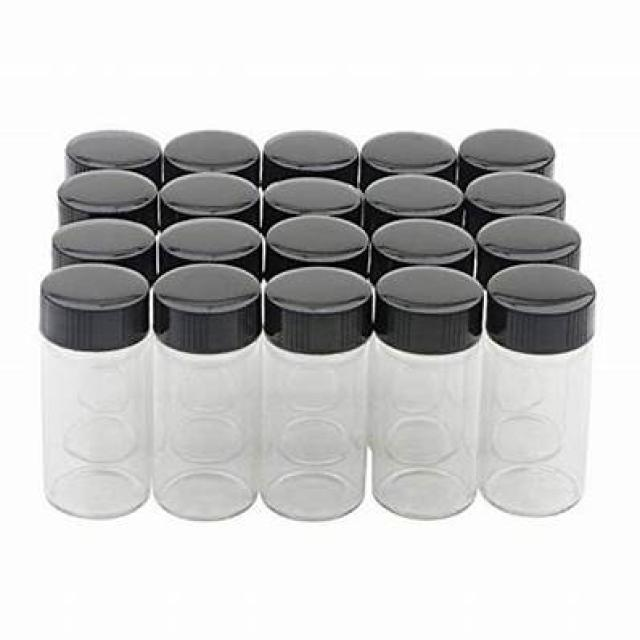vial: (482, 262, 596, 320), (372, 258, 486, 316), (473, 213, 585, 266), (260, 170, 368, 222), (161, 216, 266, 268), (469, 170, 571, 220), (370, 218, 480, 264), (265, 217, 380, 261), (161, 170, 266, 218), (52, 220, 164, 262), (462, 129, 556, 178), (156, 270, 264, 310), (41, 269, 149, 309), (364, 131, 454, 178), (62, 172, 160, 215), (263, 130, 357, 174), (266, 268, 375, 304), (161, 129, 252, 171), (362, 177, 463, 214), (76, 132, 152, 168)
